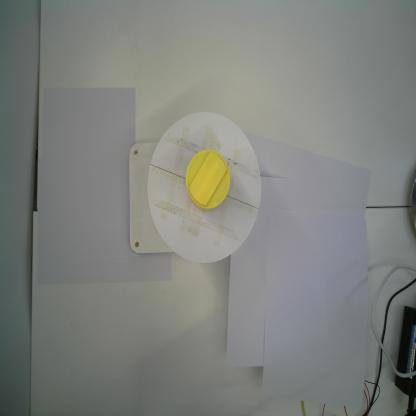Canned Food: (186, 148, 230, 210)
